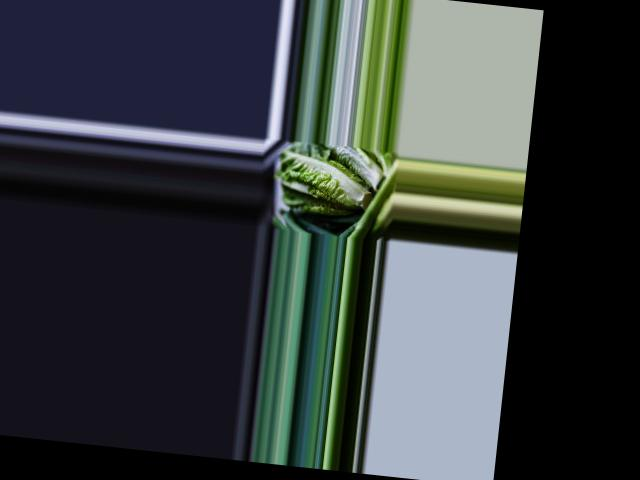lettuce: (272, 149, 376, 221)
